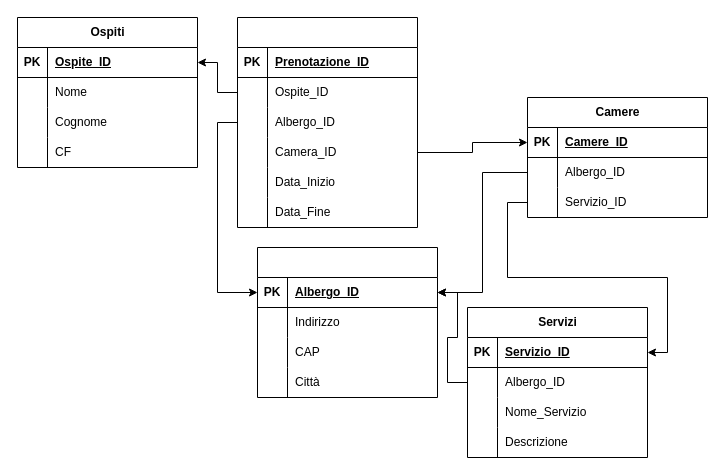
Some shapes in this 725 by 475 pixel diagram are drawn without their labels. Here are the shapes that lost their labels. From the top down, the box of each, then its label:
(236, 16, 418, 228): Prenotazioni
(256, 246, 438, 398): Alberghi
